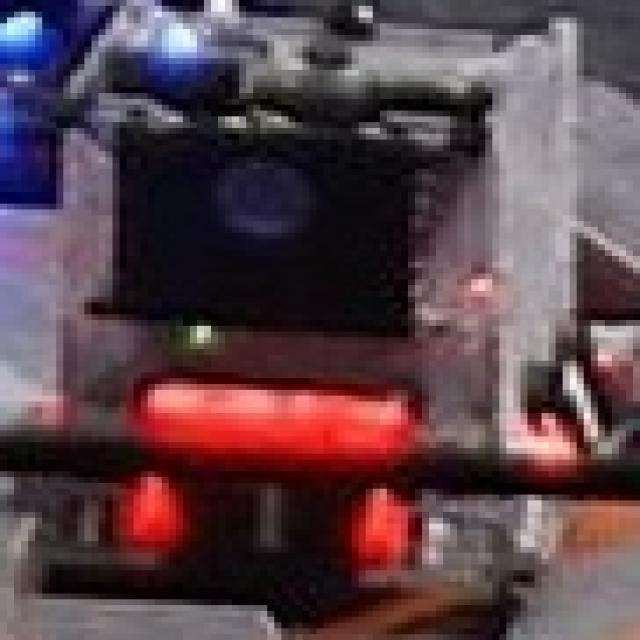R1: (127, 472, 408, 564)
